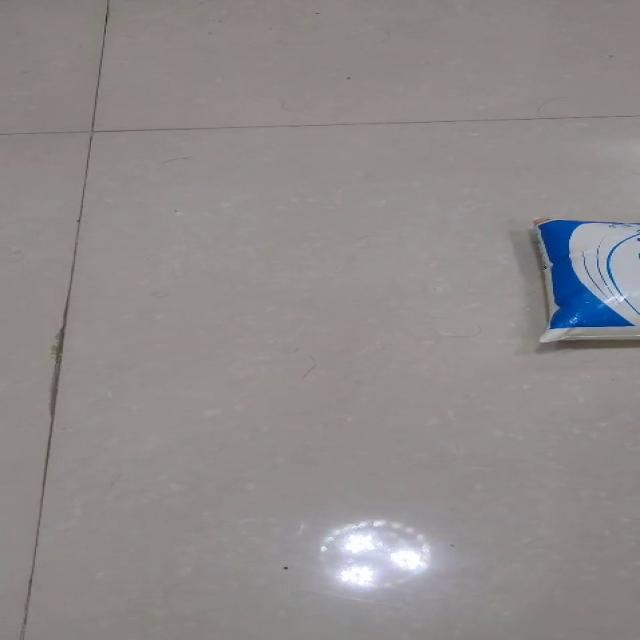plastic: (530, 216, 639, 343)
